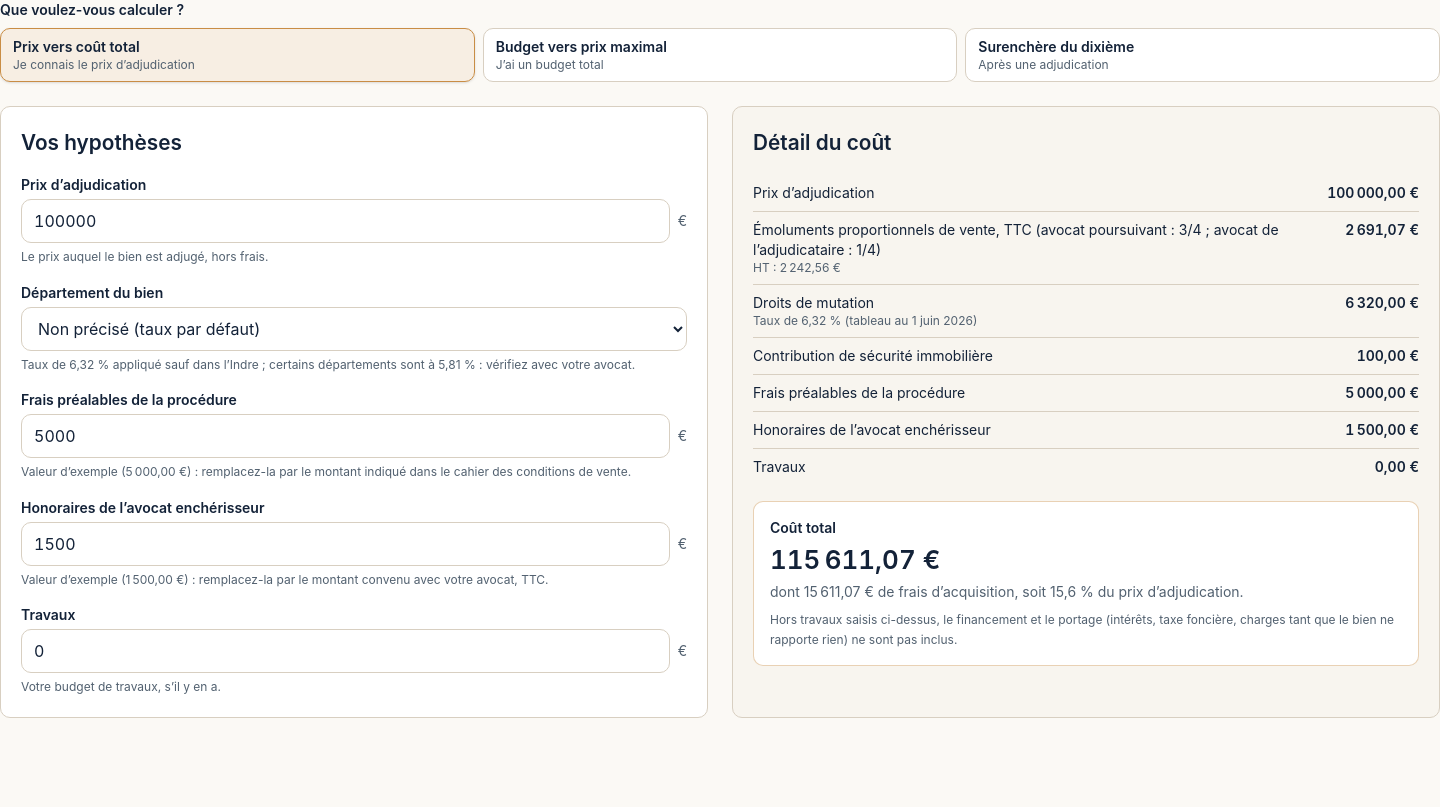
Test: mode inverse : budget vers prix maximal › garde les hypothèses de frais saisies quand on change de calcul
Replace the text in the number field labelled "Travaux" with "30000" at (345, 651), box [21,629,670,673]
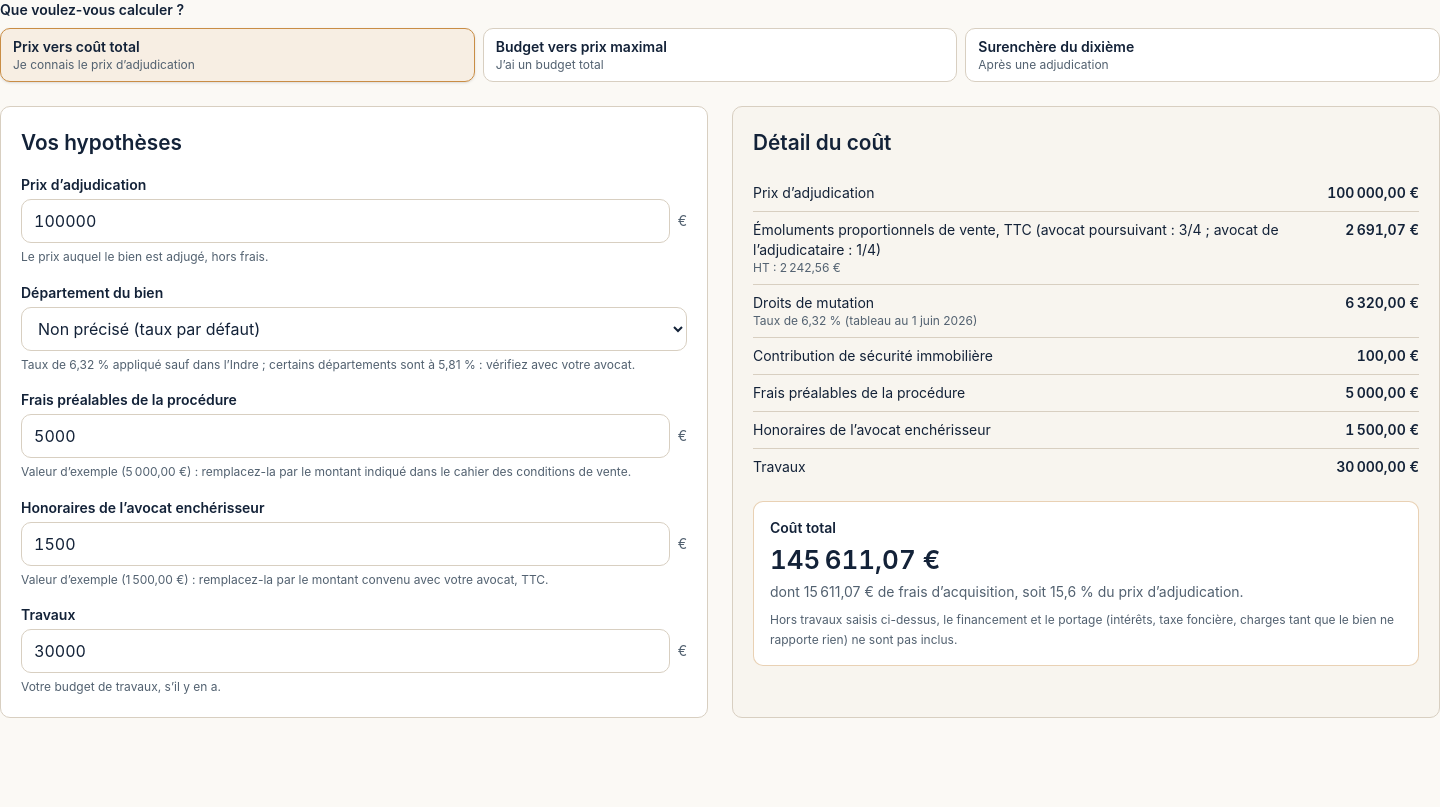
Replace the text in the number field labelled "Honoraires de l’avocat enchérisseur" with "2500" at (345, 544), box [21,522,670,566]
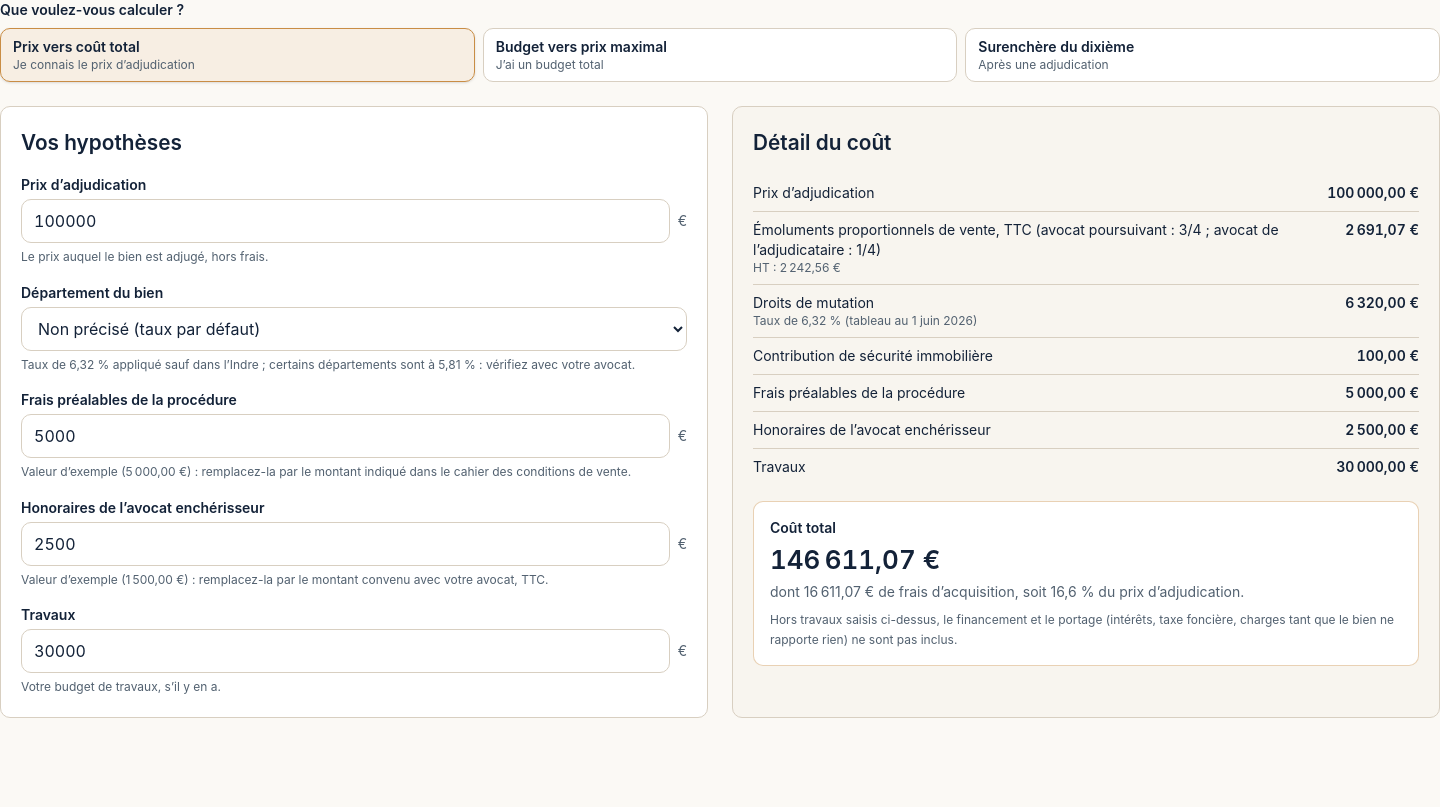
Select "36 – Indre" in the dropdown labelled "Département du bien" at (354, 328), box [21,306,687,350]
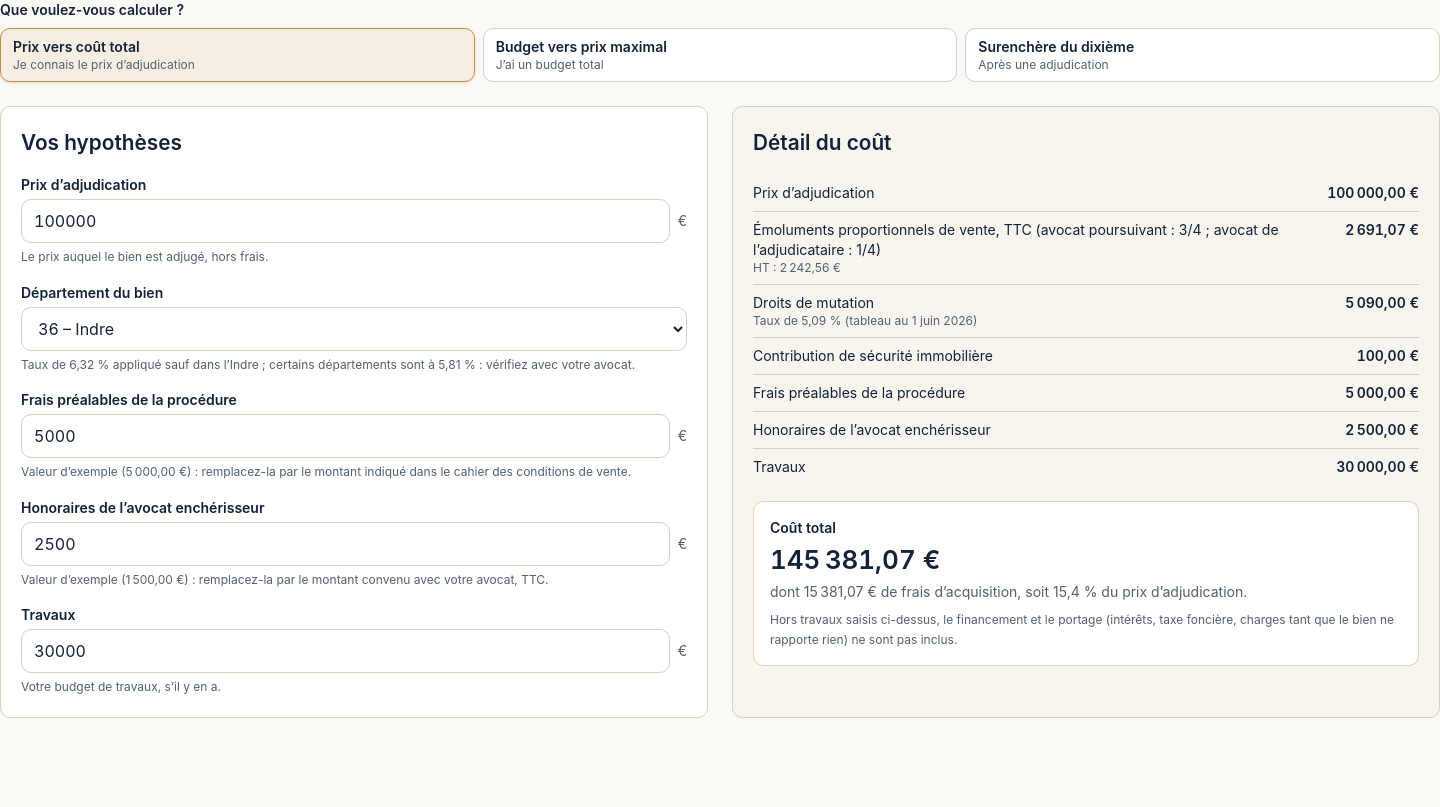
Click the radio button labelled "Budget vers prix maximal J’ai un budget total" at (581, 46), box [483,28,957,82]
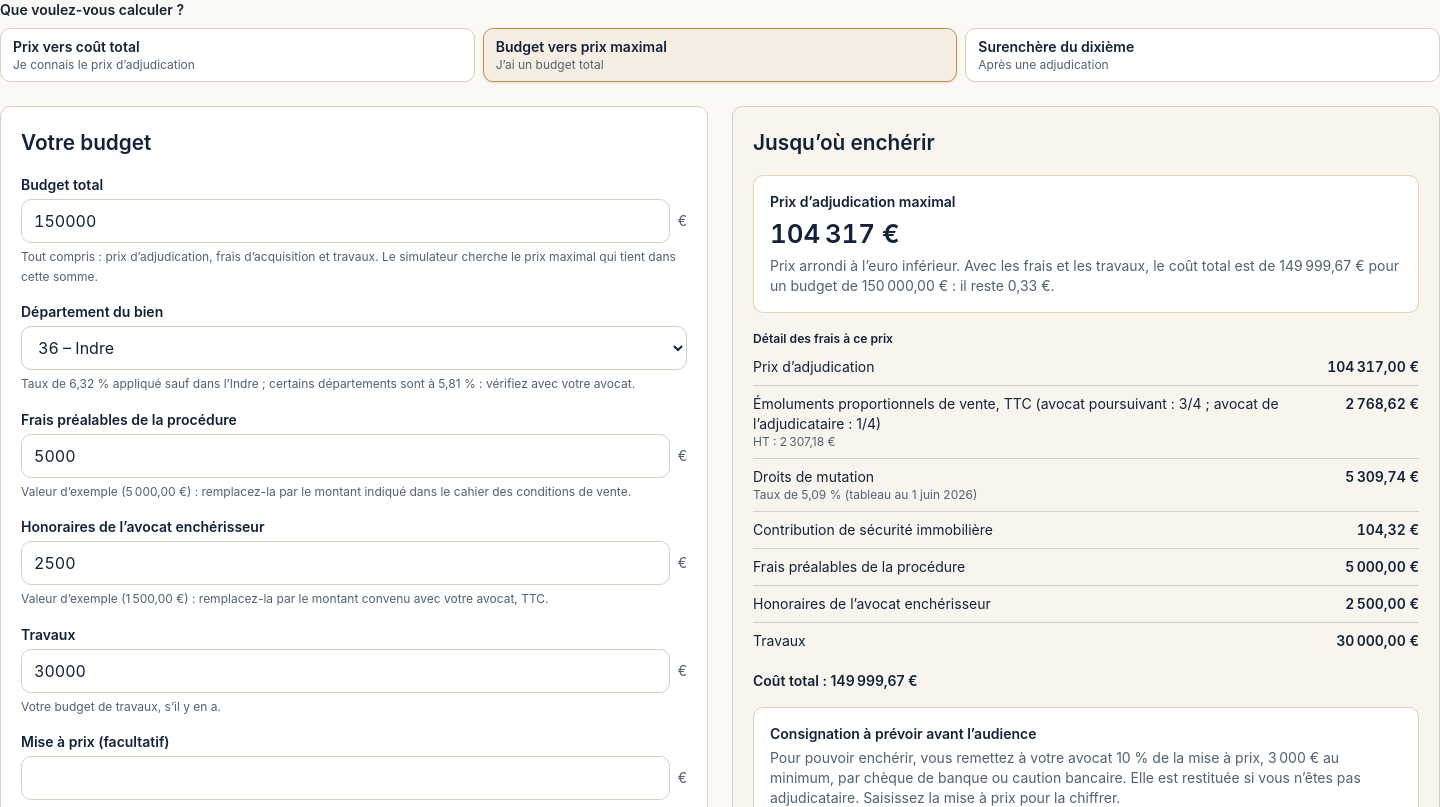
Now the dropdown labelled "Département du bien" shows "36 – Indre", box [21,326,687,370]
Now the number field labelled "Travaux" holds "30000", box [21,648,670,692]
Now the number field labelled "Honoraires de l’avocat enchérisseur" holds "2500", box [21,541,670,585]
Click the radio button labelled "Prix vers coût total Je connais le prix d’adjudication" at (76, 46), box [0,28,475,82]
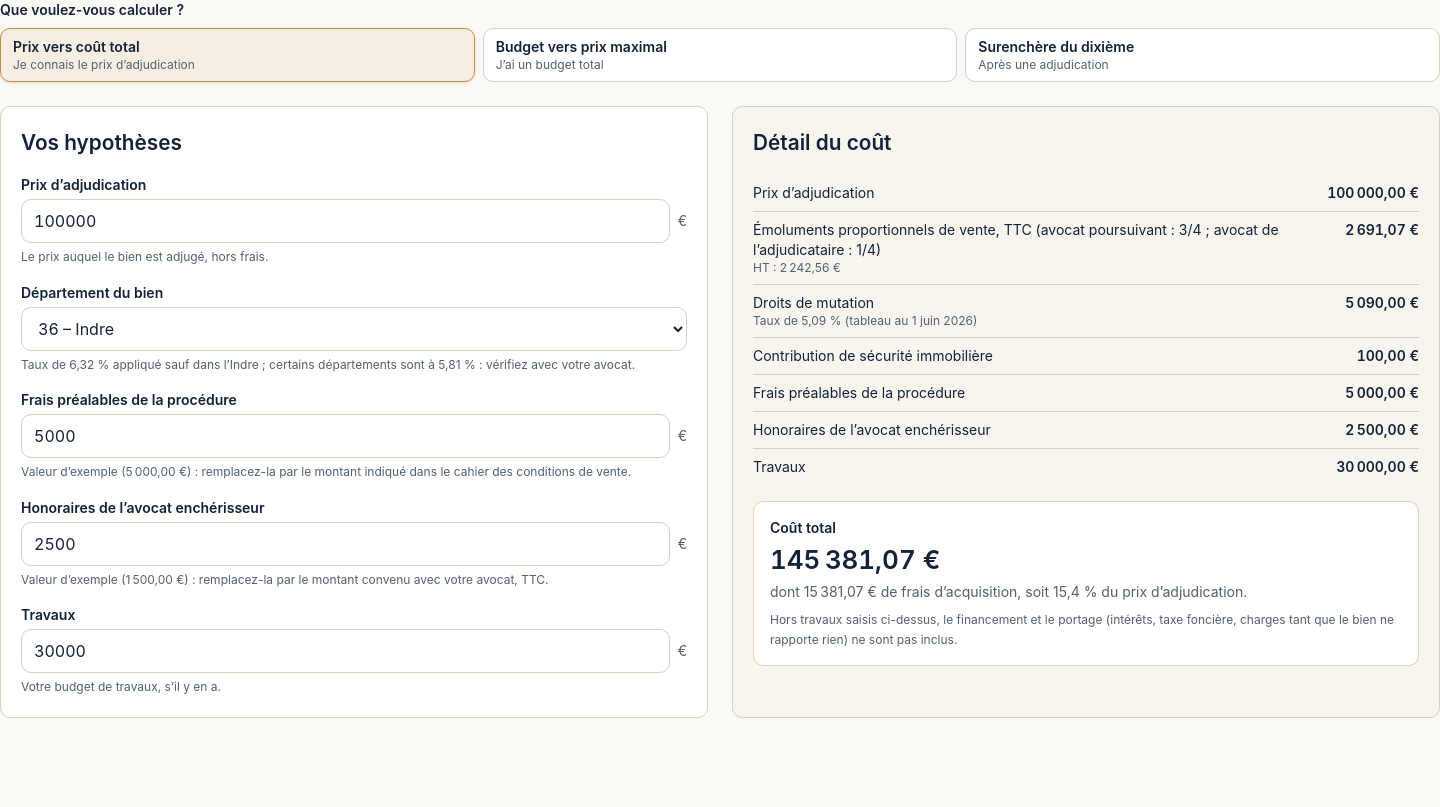
Now the number field labelled "Travaux" holds "30000", box [21,629,670,673]
